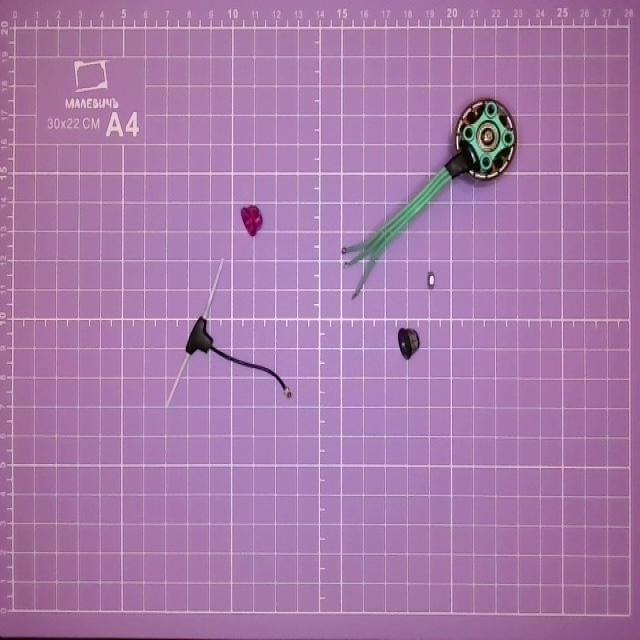antenna: (168, 255, 296, 418)
motor: (344, 95, 517, 289)
screw_M3: (424, 266, 440, 293)
screw_M5: (232, 194, 270, 242), (394, 319, 424, 366)
